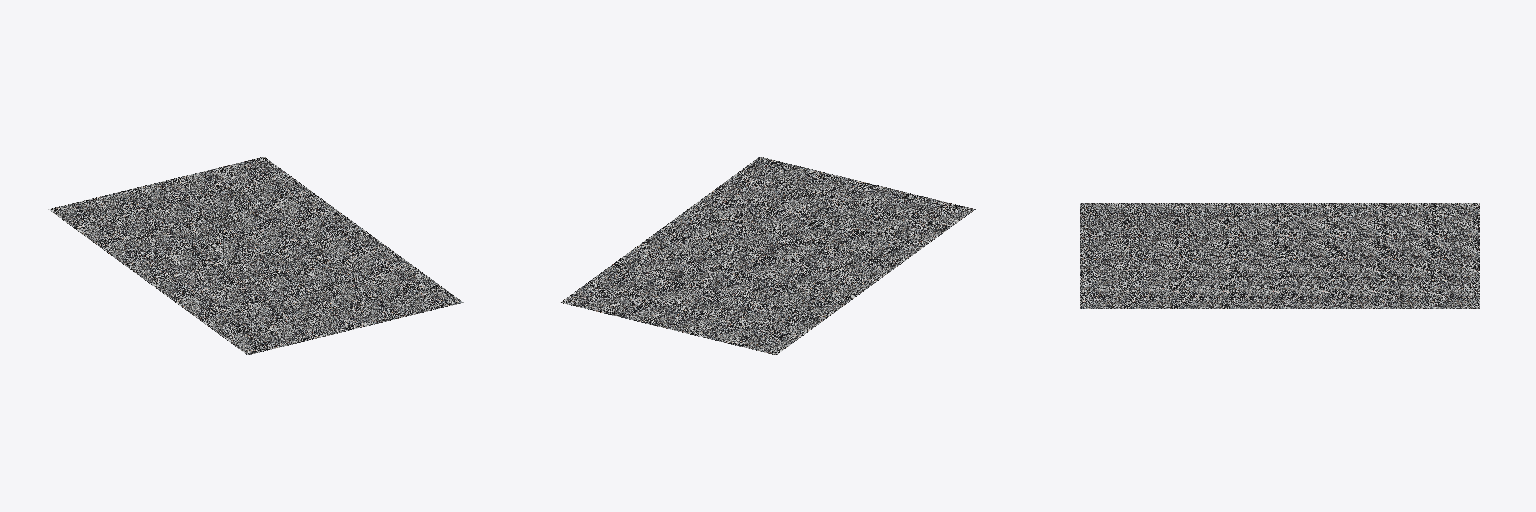
3 views of the same model, side by side, from view 1: azimuth 30°, elevation 25°; view 2: azimuth 150°, elevation 25°; view 3: azimuth 270°, elevation 25° (orthographic).
Parts seen in each view (by area): view 1: Plane.006; view 2: Plane.006; view 3: Plane.006.
Part boxes in pixels (x1,y1,x2,y2): Plane.006: (48, 157, 463, 354); Plane.006: (560, 157, 975, 354); Plane.006: (1080, 203, 1479, 308).
Bounding box in the file's own units: 160 × 0 × 256.
Materials: 8 (1 with a texture image).